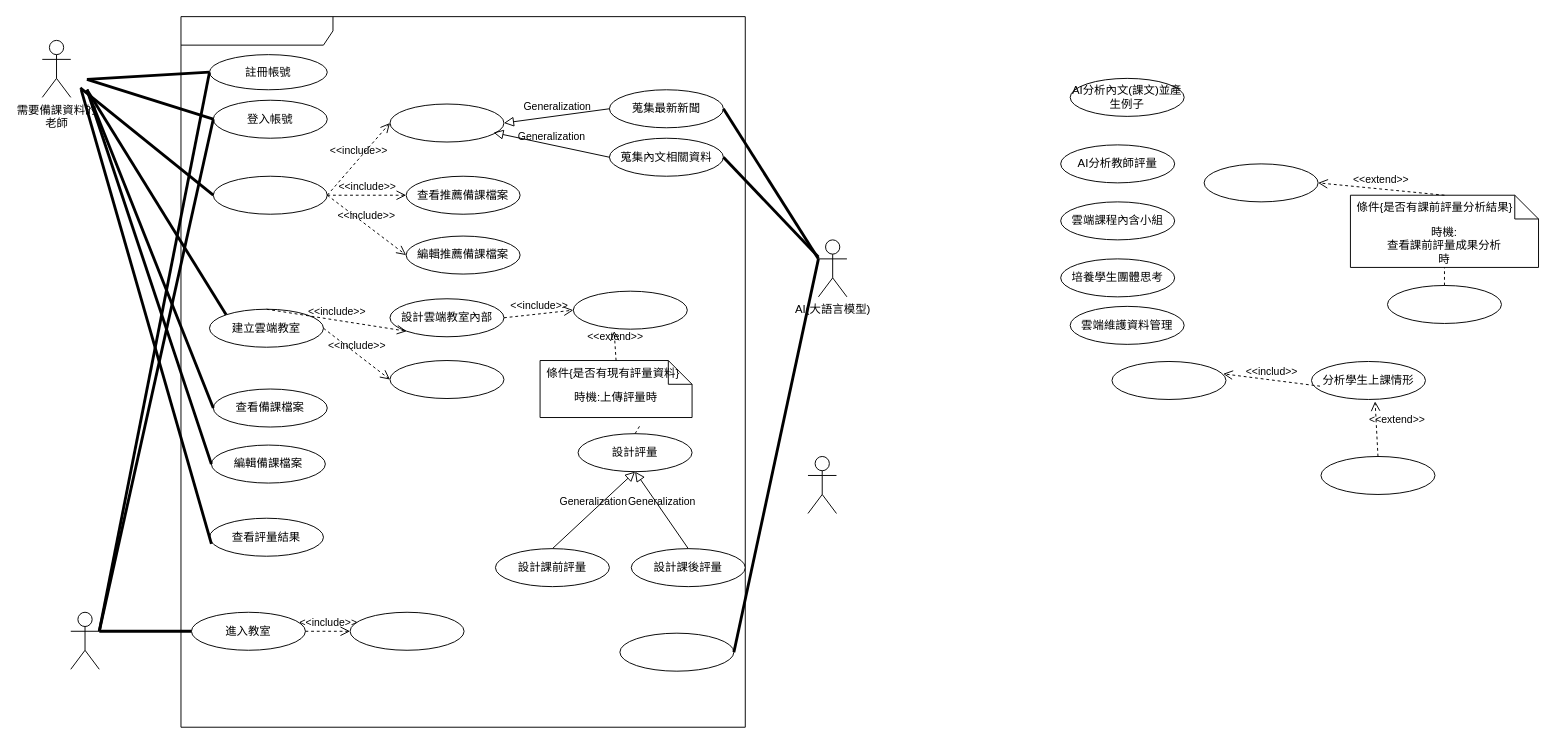
Some shapes in this 1555 by 744 pixel diagram are drawn without their labels. The shapes that lost their labels are listed below. From the top down, each one's box as (x1, y1, x2, y2) in pixels, then its label:
(389, 103, 504, 142): 蒐集備課文本資料
(212, 175, 327, 214): 建立備課資料
(1203, 163, 1318, 202): 查看課前評量成果分析
(572, 290, 687, 329): 上傳評量
(1387, 285, 1501, 323): 抓取雲端教室課前評量分析結果
(389, 360, 504, 399): 邀請學生
(180, 16, 745, 727): AI備課系統
(1111, 361, 1226, 399): 觀察學生上課情形
(807, 456, 836, 513): 資訊管理
(1320, 456, 1435, 494): 改善建議
(70, 611, 99, 669): 學生
(349, 611, 464, 650): 填寫評量
(619, 632, 734, 671): 分析評量
